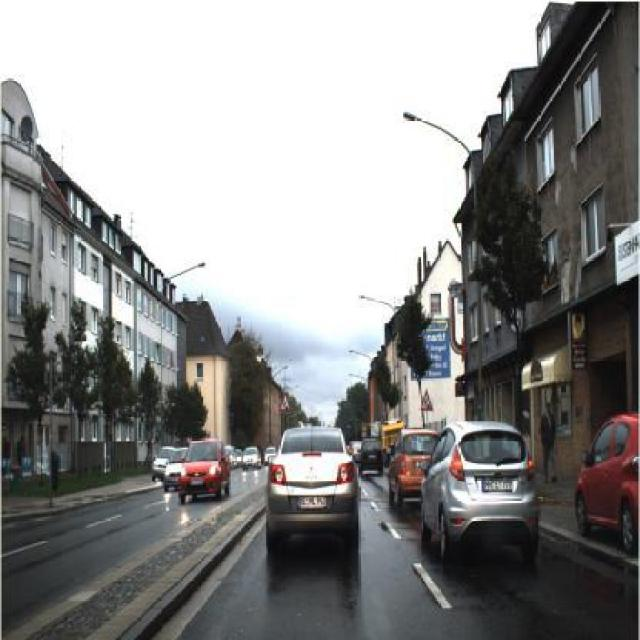traffic_sign: (418, 390, 436, 413), (278, 392, 292, 414)
